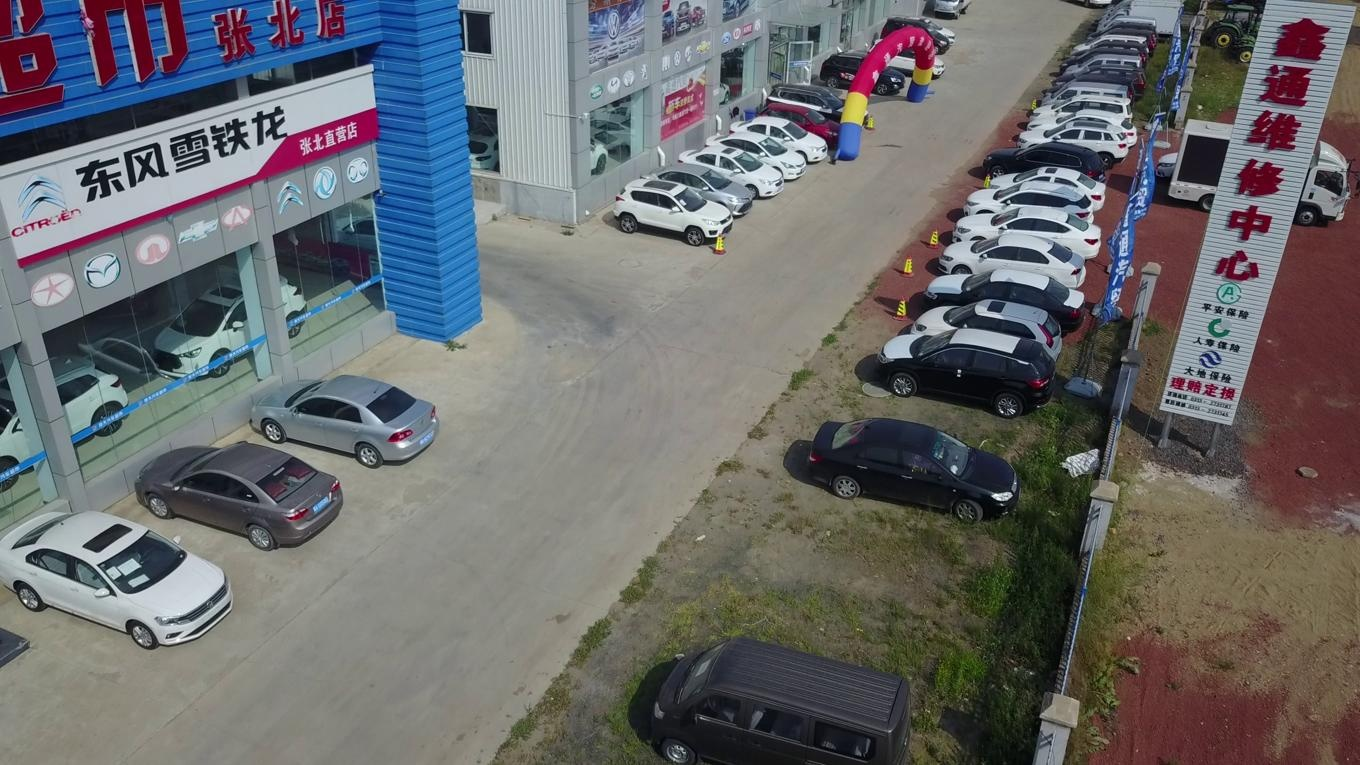car: (2, 508, 234, 650), (133, 439, 345, 552), (803, 417, 1021, 525), (1, 353, 131, 492), (250, 375, 438, 467), (871, 328, 1057, 418), (151, 276, 307, 377), (923, 268, 1088, 338), (907, 299, 1061, 369), (936, 233, 1094, 292), (952, 205, 1102, 265), (612, 178, 733, 247), (963, 181, 1093, 230), (649, 162, 752, 219), (982, 140, 1106, 186), (989, 166, 1106, 214), (1016, 119, 1128, 169), (677, 149, 784, 201), (704, 132, 806, 182), (765, 83, 868, 132), (1023, 109, 1138, 152), (310, 211, 411, 258), (730, 117, 828, 164), (757, 102, 845, 150), (820, 49, 905, 96), (1028, 94, 1133, 128), (1054, 65, 1145, 104), (865, 37, 945, 80), (1037, 80, 1129, 115), (1046, 73, 1135, 108), (541, 137, 605, 181), (457, 128, 518, 172), (1059, 47, 1146, 77), (1070, 40, 1149, 69), (1081, 29, 1156, 59), (1071, 34, 1150, 62), (893, 14, 955, 45), (1086, 24, 1157, 49)
others: (1206, 3, 1292, 64)
truck: (1165, 116, 1352, 228), (1100, 1, 1181, 44), (933, 0, 971, 20)
van: (645, 639, 910, 765), (1061, 53, 1143, 85), (880, 17, 950, 54), (1097, 16, 1156, 40)
